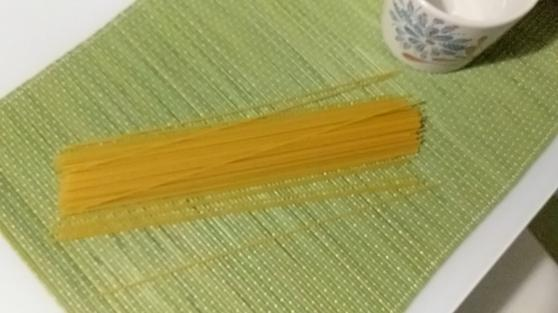spaghetti: (44, 63, 474, 298)
